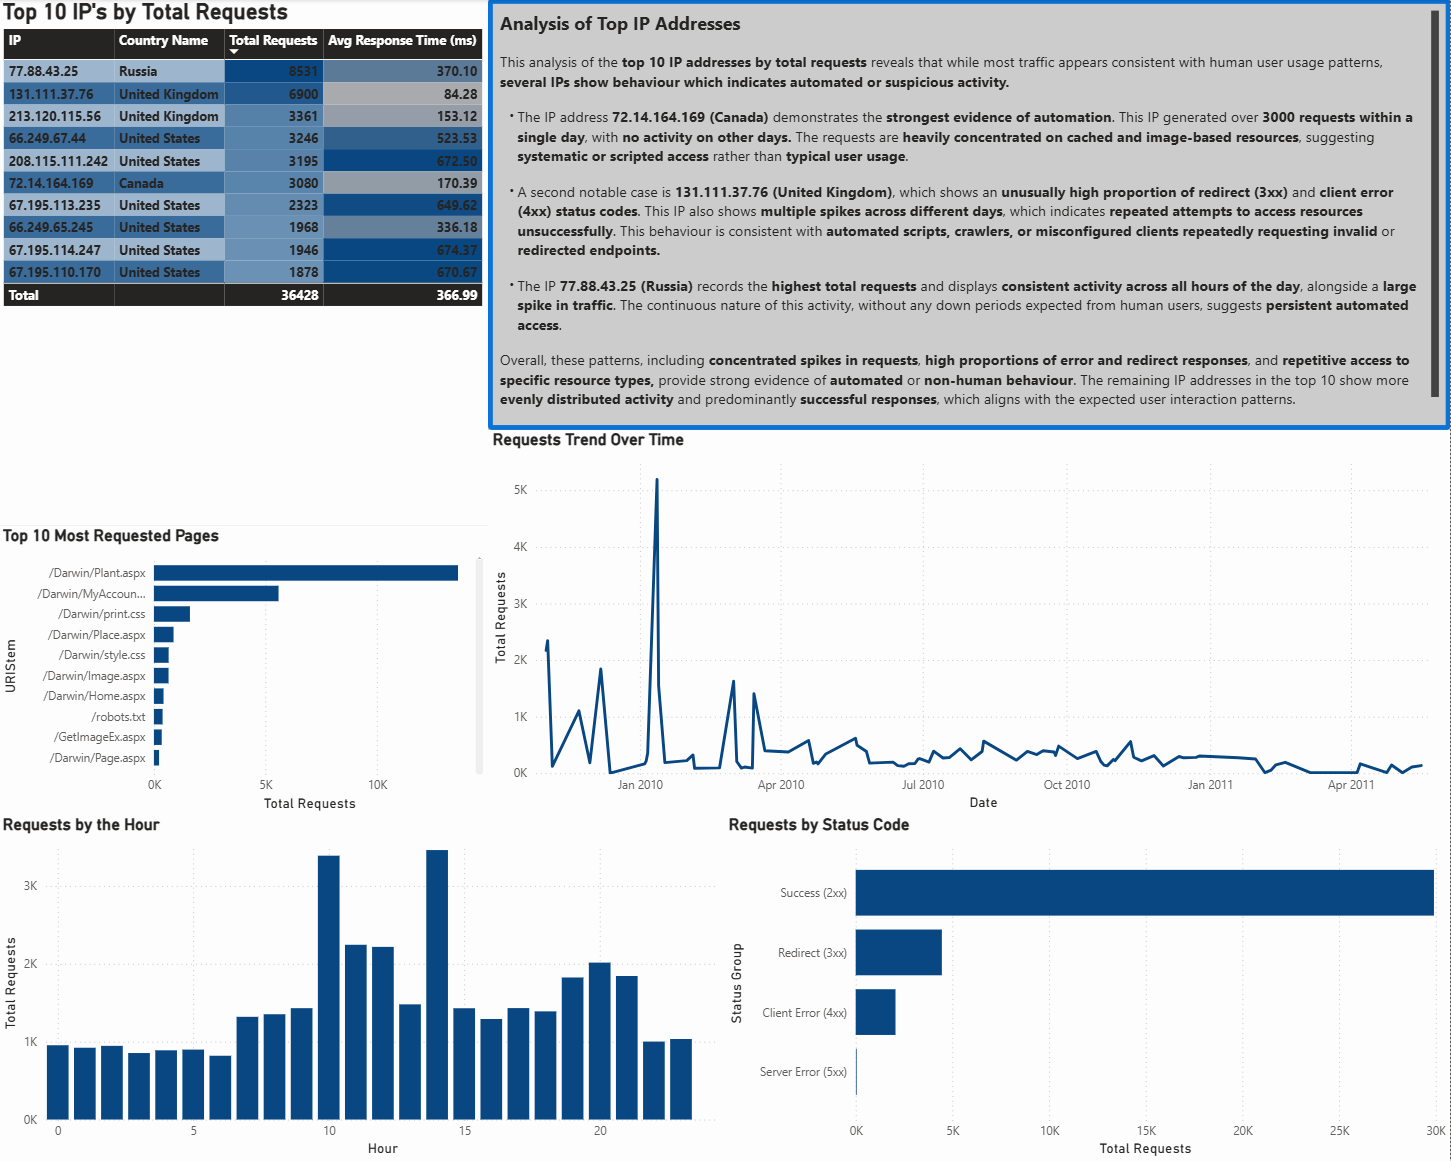

The dashboard page shown, as its layout file describes it:
{"tool":"powerbi","page":{"name":"Suspicious URL Analysis","canvas":[1500,1200],"ordinal":1},"visuals":[{"type":"tableEx","title":"Top 10 IP''s by Total Requests","fields":{"Values":["FactTable.IP","DimLocationTable.country_name","FactTable.Total Requests","FactTable.Avg Response Time (ms)"]},"box":[0,0,506.2,543.8],"z":0},{"type":"clusteredColumnChart","title":"Requests by the Hour","fields":{"Category":["FactTable.Hour"],"Y":["FactTable.Total Requests"]},"box":[0,842.5,750,357.5],"z":1000},{"type":"clusteredBarChart","title":"Top 10 Most Requested Pages","fields":{"Category":["FactTable.URIStem"],"Y":["FactTable.Total Requests"]},"box":[0,543.8,506.2,298.8],"z":2000},{"type":"barChart","title":"Requests by Status Code","fields":{"Category":["FactTable.Status Group"],"Y":["FactTable.Total Requests"]},"box":[750,842.5,750,357.5],"z":3000},{"type":"lineChart","title":"Requests Trend Over Time","fields":{"Y":["FactTable.Total Requests"],"Category":["FactTable.Date"]},"box":[506.2,445,993.8,397.5],"z":4000},{"type":"textbox","box":[506.2,0,993.8,445],"z":5000}]}

Visuals, with their boxes in screenshot pixels (x1, y1, x2, y2), scaled from the page's 1500x1200 canvas onto the 1451x1161 screenshot:
"Top 10 IP''s by Total Requests" tableEx: x1=0, y1=0, x2=490, y2=526
"Requests by the Hour" clusteredColumnChart: x1=0, y1=815, x2=726, y2=1160
"Top 10 Most Requested Pages" clusteredBarChart: x1=0, y1=526, x2=490, y2=815
"Requests by Status Code" barChart: x1=726, y1=815, x2=1450, y2=1160
"Requests Trend Over Time" lineChart: x1=490, y1=431, x2=1450, y2=815
textbox: x1=490, y1=0, x2=1450, y2=431
